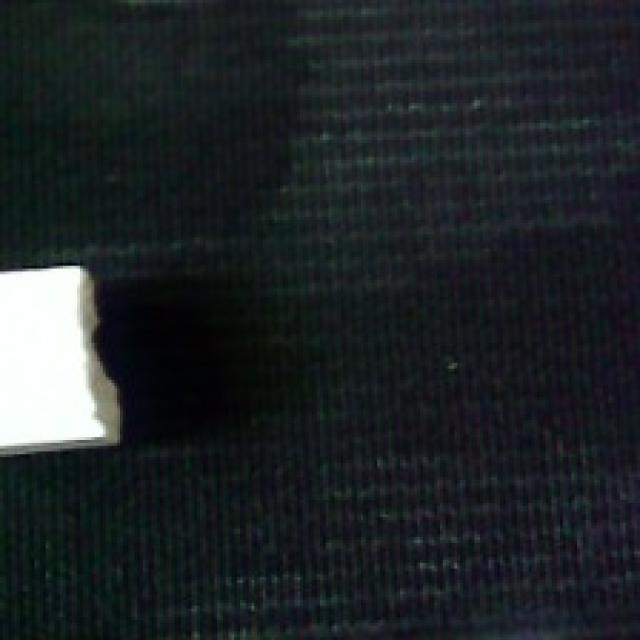defected: (0, 260, 123, 460)
